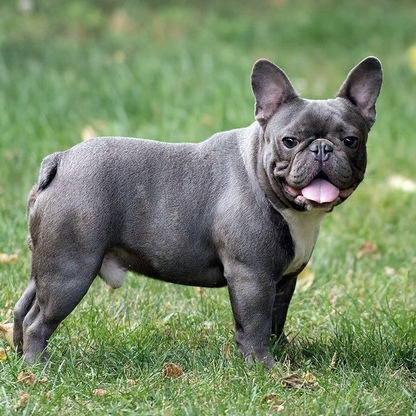bulldog: (32, 52, 382, 362)
